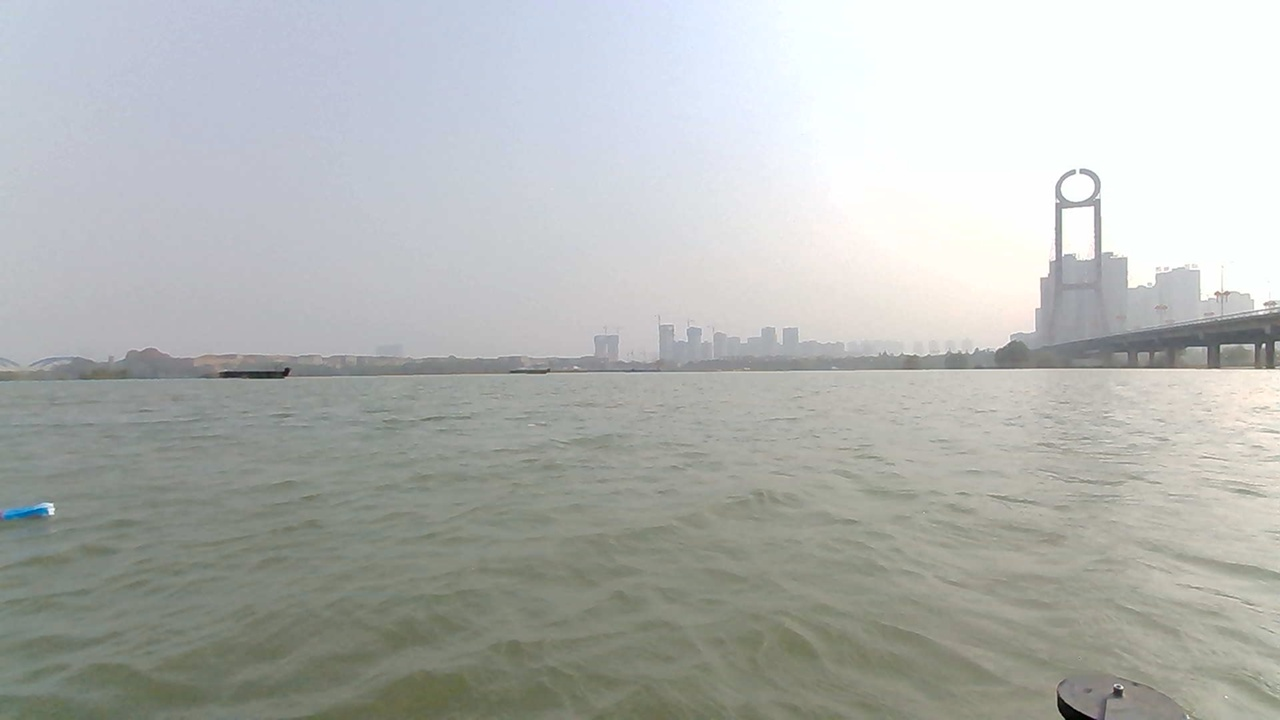bottle: (0, 496, 85, 537)
